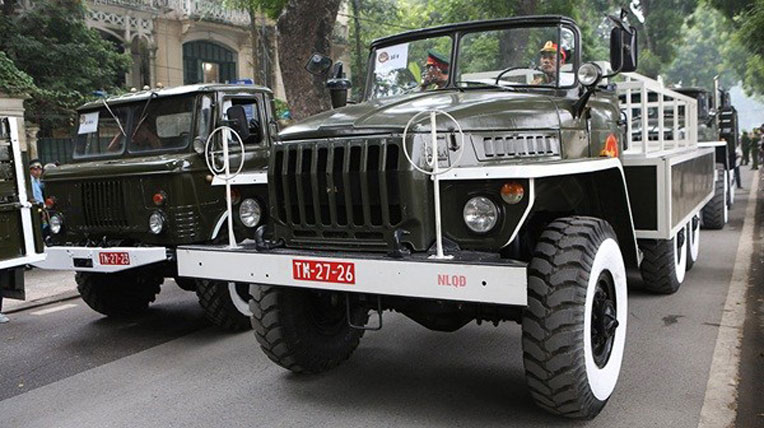plate: (290, 258, 359, 285), (96, 250, 132, 266)
